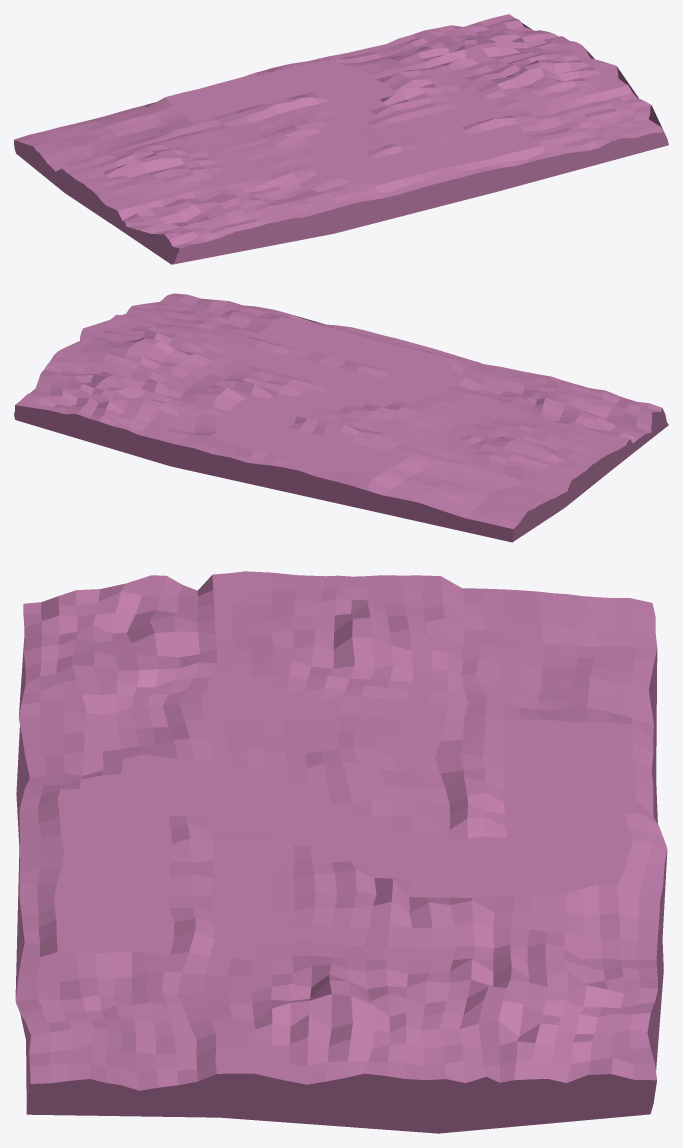
File: zemın6.fbx
3 renders of one model, top to bottom at view 1: azimuth 30°, elevation 25°; view 2: azimuth 150°, elevation 25°; view 3: azimuth 270°, elevation 25°, orthographic. The views are drawn at different scales.
Visible parts, largest first — view 1: Plane.020; view 2: Plane.020; view 3: Plane.020.
Boxes of the visible parts, bbox=[...] form: Plane.020: bbox=[14, 14, 668, 264]; Plane.020: bbox=[14, 293, 668, 542]; Plane.020: bbox=[15, 571, 667, 1133].
Bounding box in the file's own units: 5411 × 416 × 2888.
